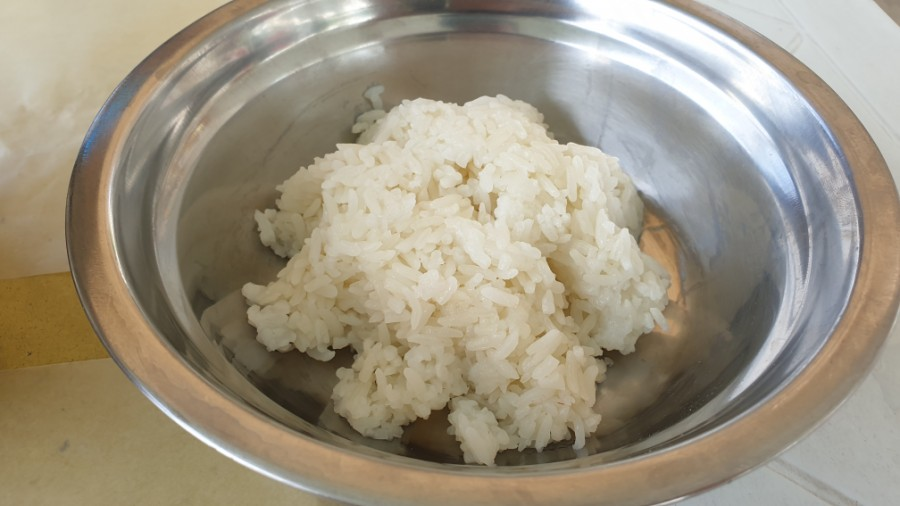plain rice: (236, 80, 670, 430)
